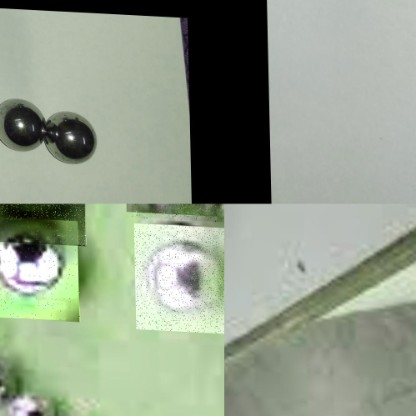ironball: (139, 238, 219, 316), (0, 219, 66, 298), (43, 106, 101, 170), (0, 94, 44, 156), (2, 378, 50, 415)
